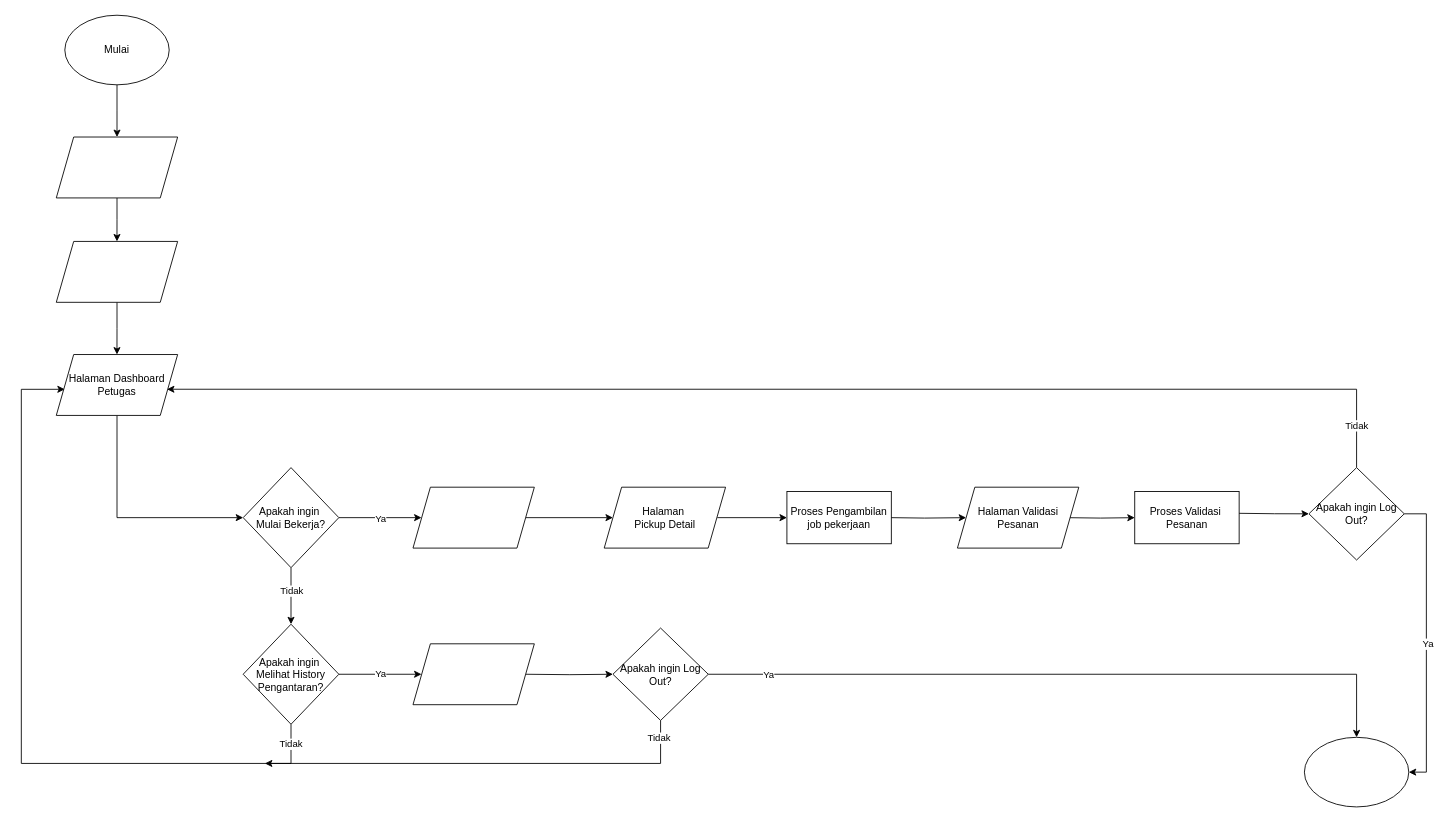
Some shapes in this 1449 by 822 pixel diagram are drawn without their labels. The shapes that lost their labels are listed below. From the top down, each one's centre as x and y in pixels, then its label:
At (116,167): "Halaman Login".
At (116,271): "Input Data Login".
At (473,517): "Halaman Pickup List".
At (473,674): "Halaman History".
At (1356,771): "Selesai".
